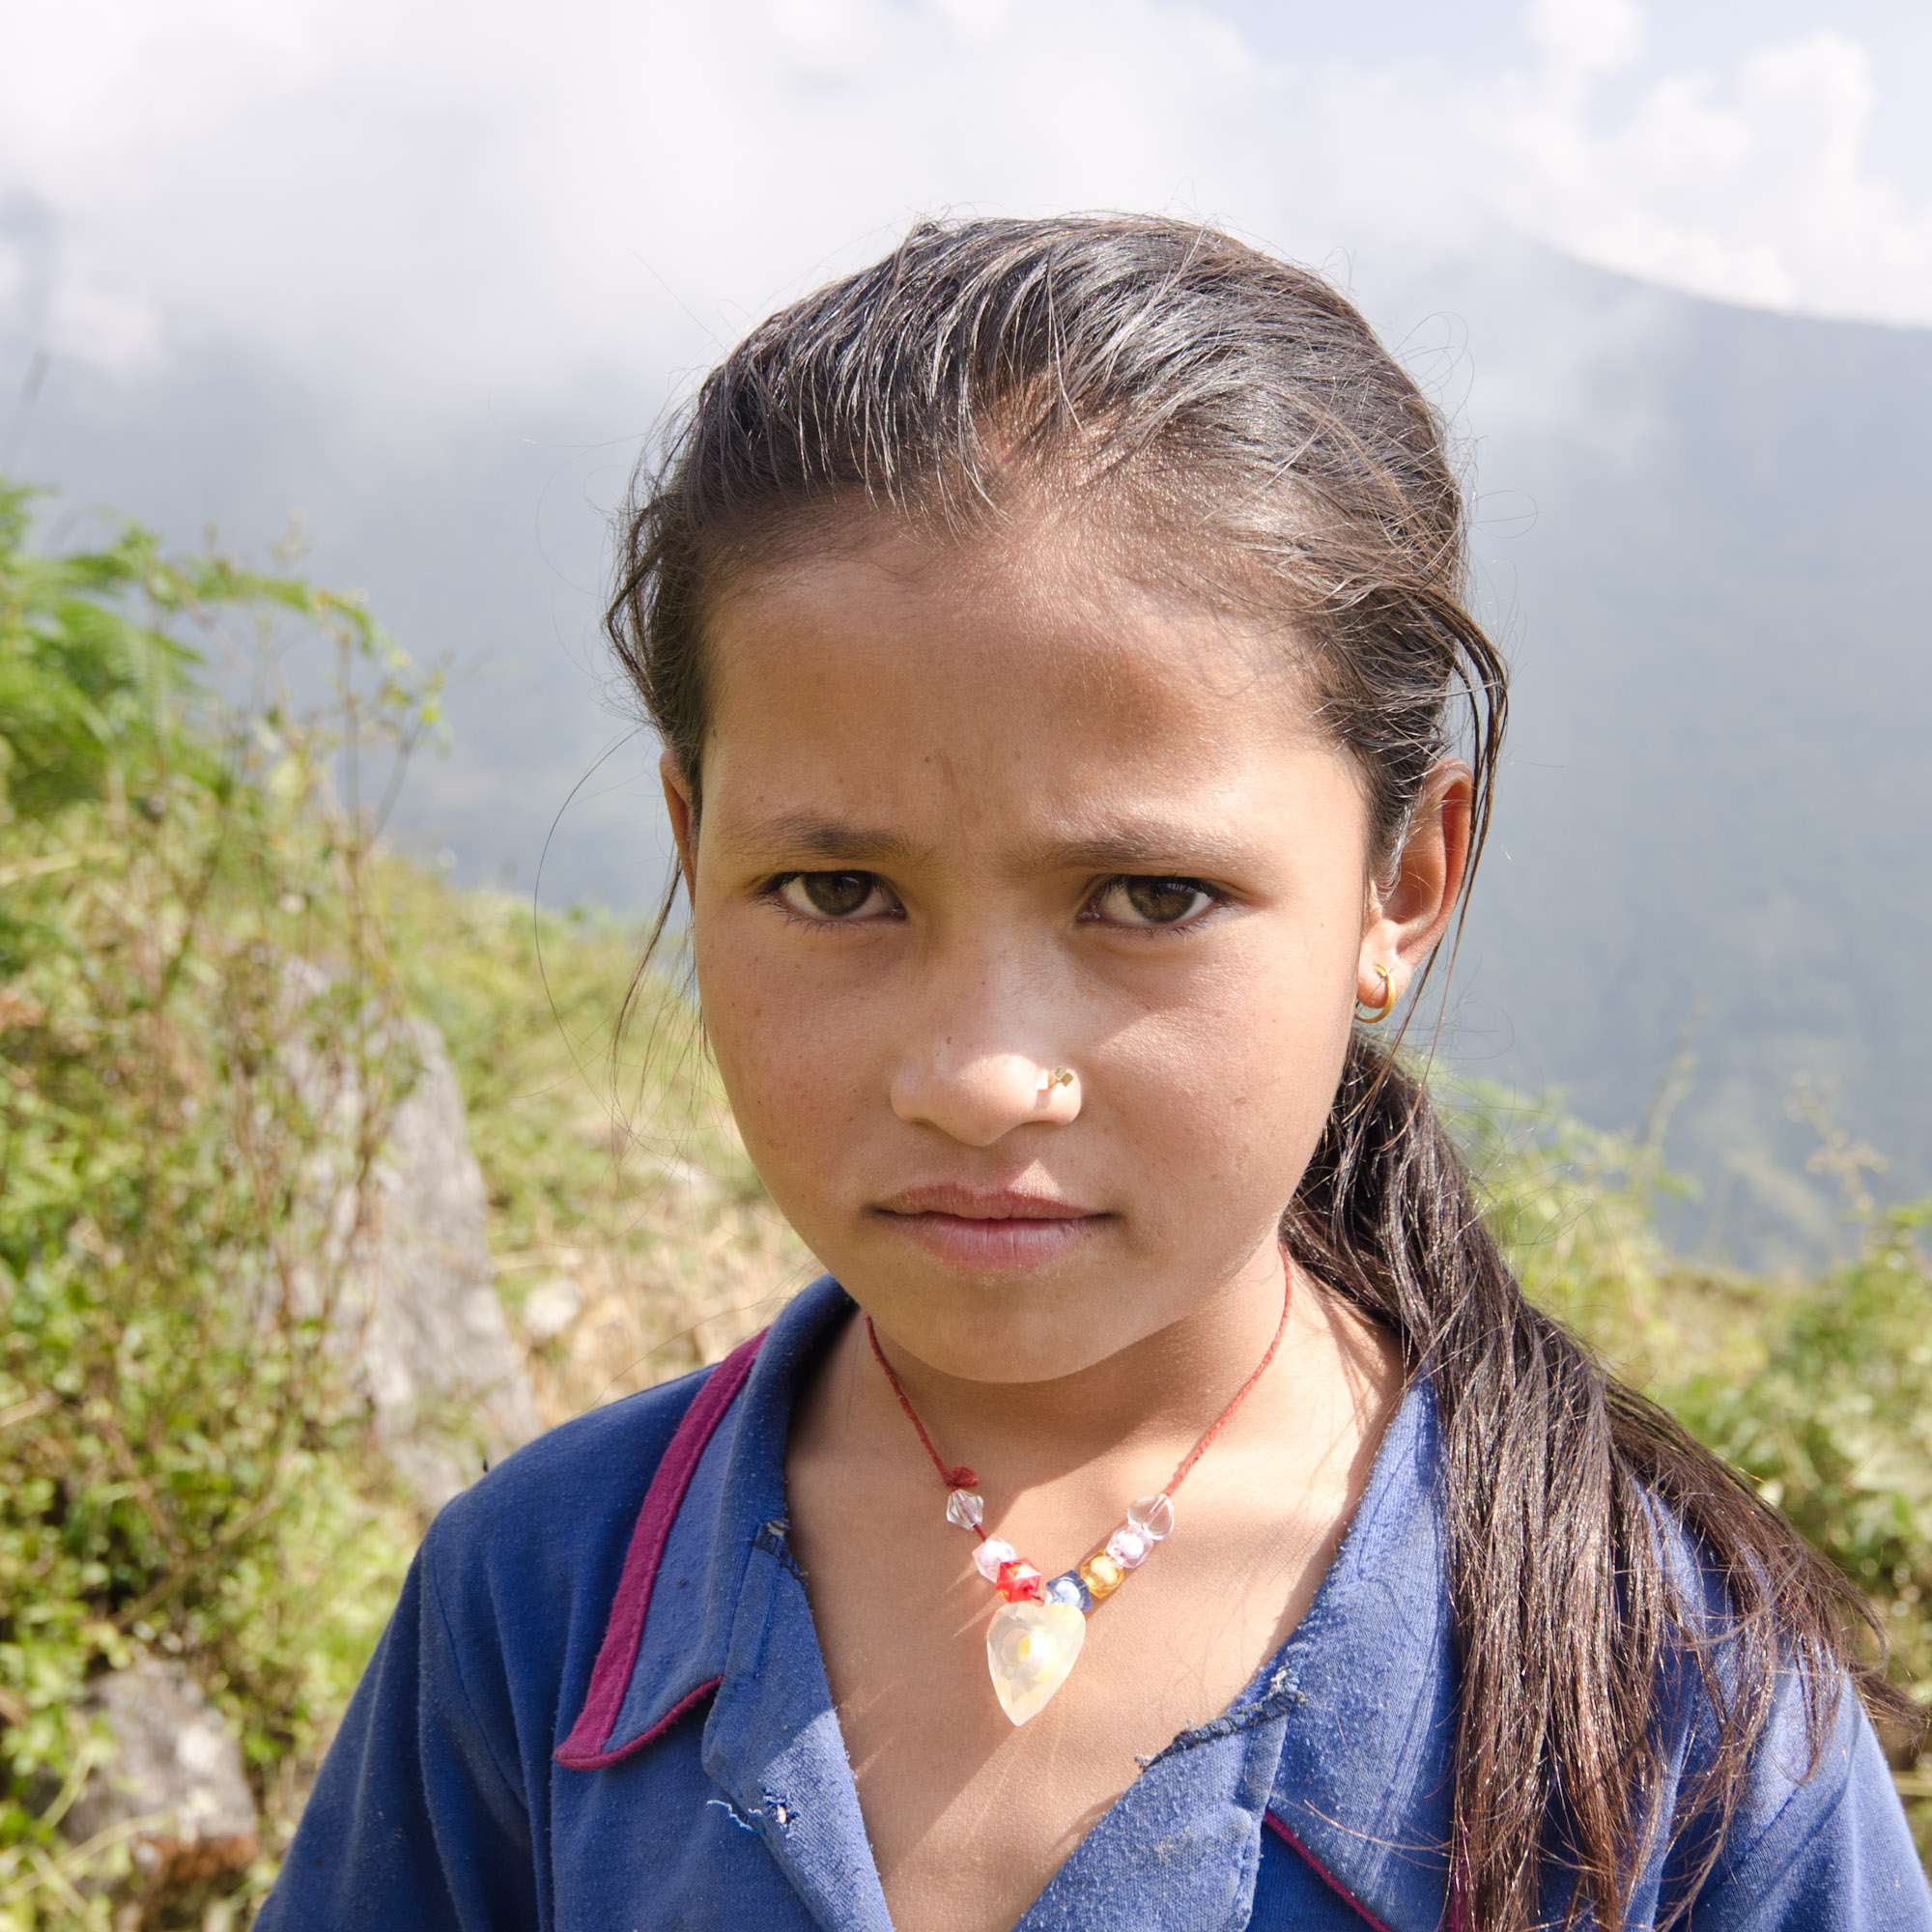human: (177, 173, 1932, 1932)
